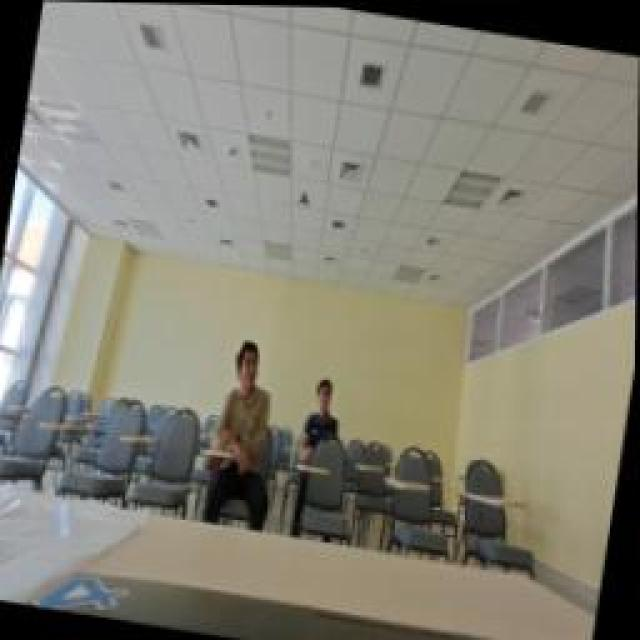study: (195, 325, 293, 527), (292, 368, 350, 462)
